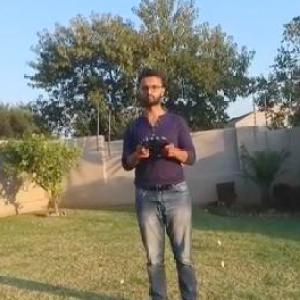follow: (114, 61, 204, 299)
